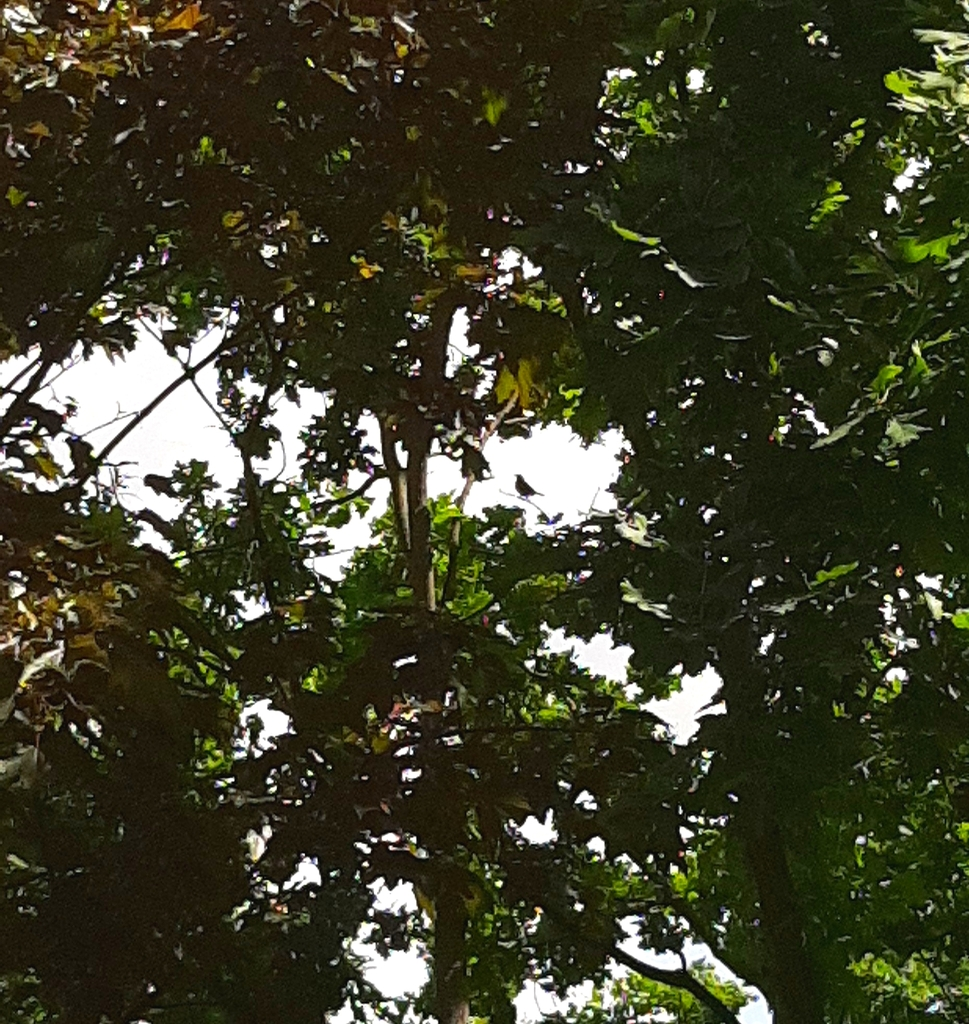Pica_pica: (513, 473, 544, 501)
